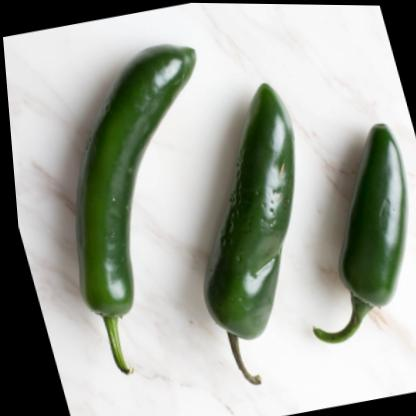--: (144, 77, 355, 397), (254, 111, 416, 364)
